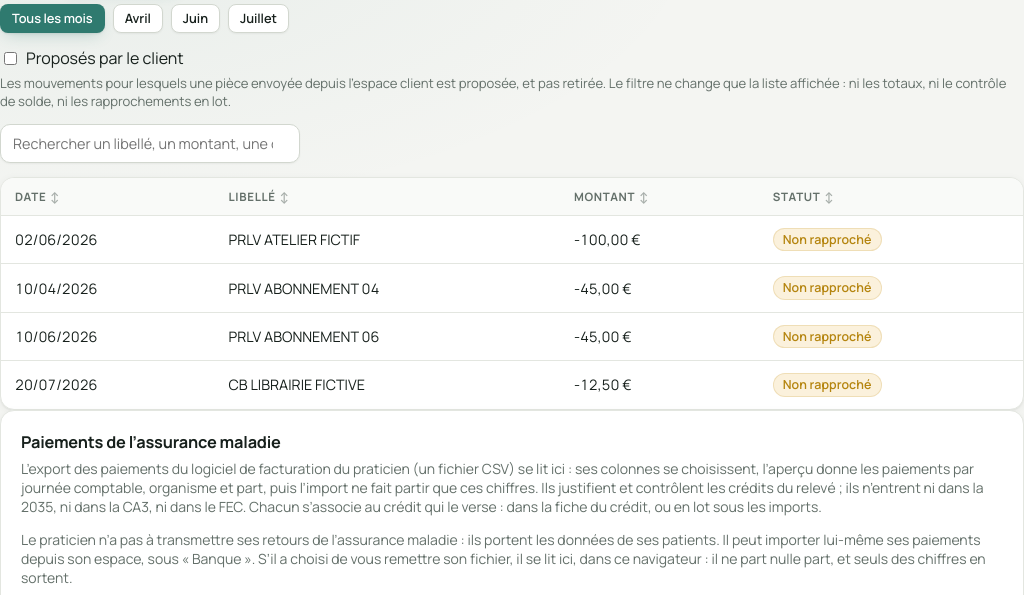
BanqueTab — les propositions de la liste suivent leurs données, et seulement elles › une pièce validée ailleurs, relue, devient la proposition de son mouvement
(page scrolled)
What coordinates should you click on to do the following:
click the text "CB LIBRAIRIE FICTIVE"
I would click on:
 (56, 385)
Its box is left=1, top=361, right=1023, bottom=409.
(page scrolled)
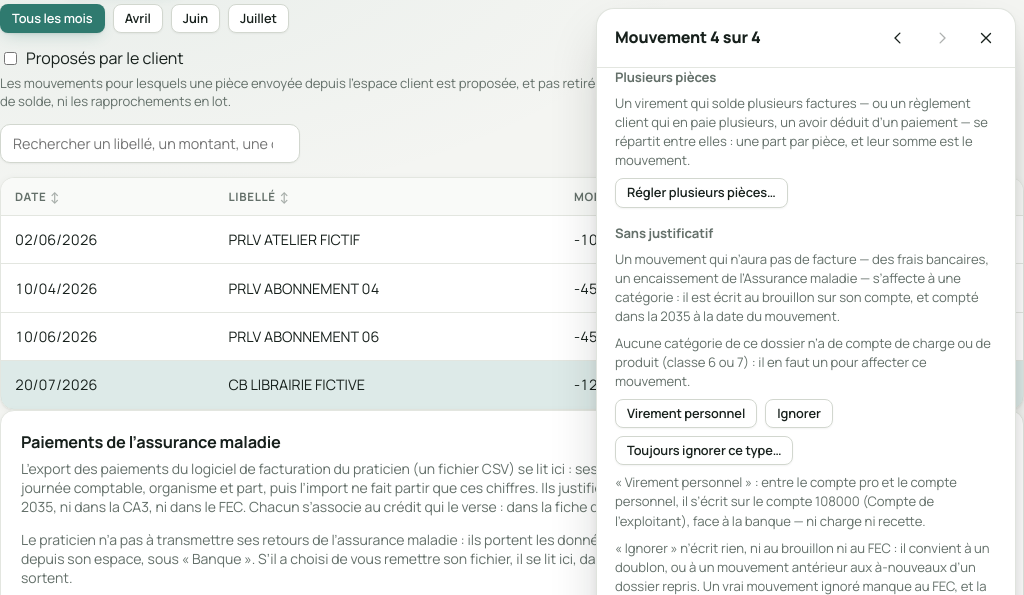
What coordinates should you click on to do the following:
click the button "Ignorer"
I would click on:
 (799, 413)
Its box is left=765, top=399, right=833, bottom=428.
(page scrolled)
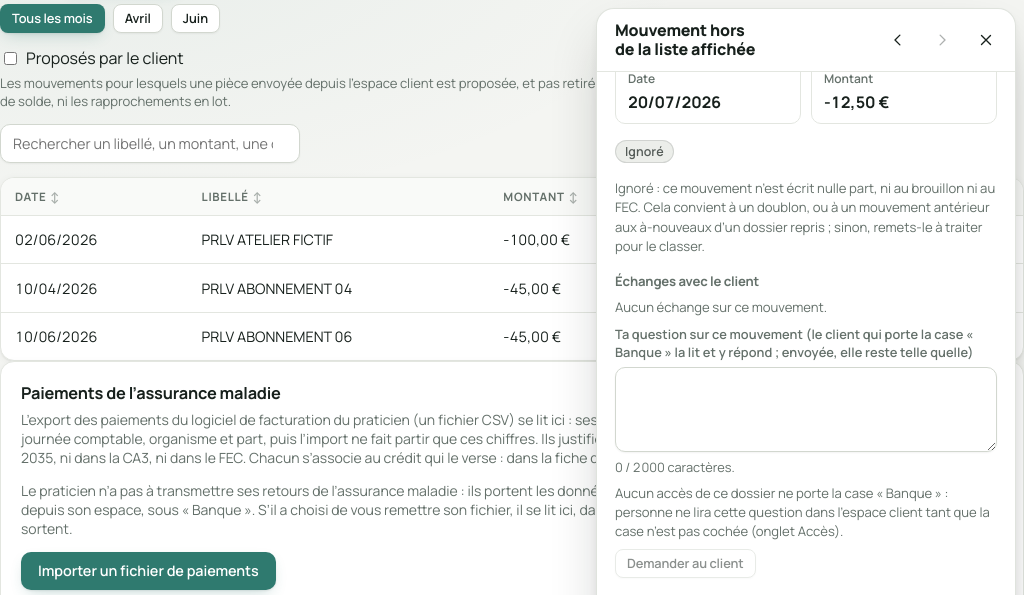
Now the text "PRLV ATELIER FICTIF" shows "Non rapproché · suggestion", box left=1, top=215, right=1023, bottom=264
